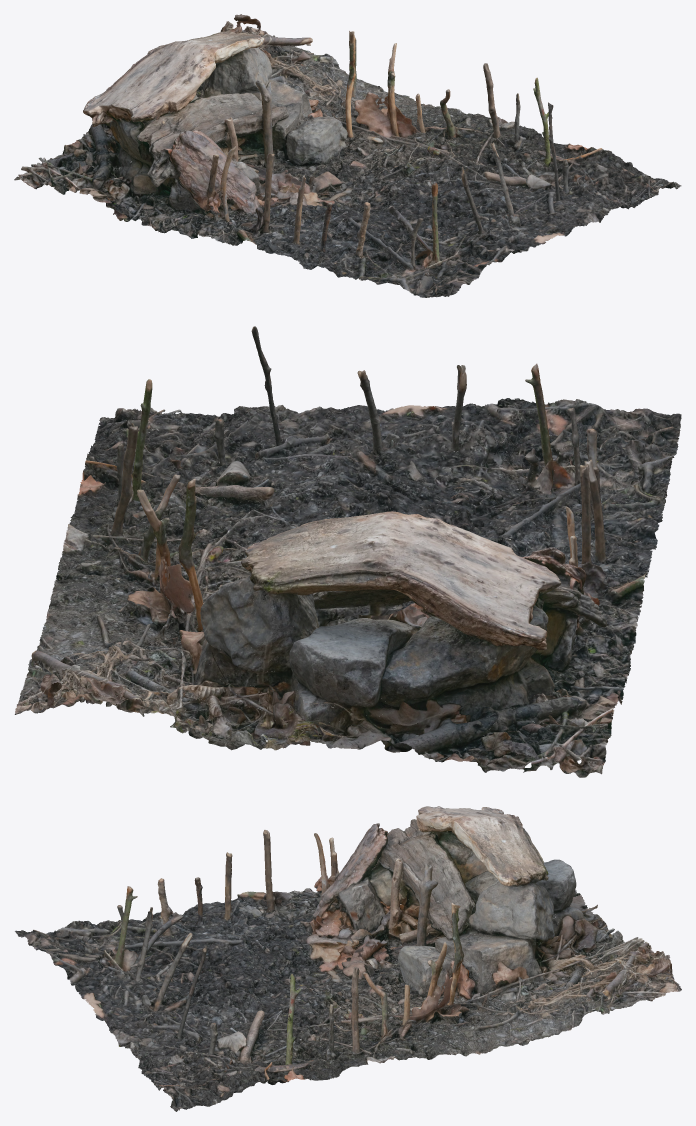
File: sf-mini-pasture-ab50cc.glb
3 renders of one model, top to bottom at view 1: azimuth 30°, elevation 25°; view 2: azimuth 150°, elevation 25°; view 3: azimuth 270°, elevation 25°, orthographic. The views are drawn at different scales.
Parts seen in each view (by area): view 1: Model_material0_0, Model_material1_0, Model_material2_0; view 2: Model_material0_0, Model_material1_0, Model_material2_0; view 3: Model_material2_0, Model_material0_0, Model_material1_0.
Part boxes in pixels (x1=…): Model_material0_0: x1=14, y1=18, x2=665, y2=297; Model_material1_0: x1=18, y1=14, x2=651, y2=285; Model_material2_0: x1=21, y1=21, x2=681, y2=293; Model_material0_0: x1=14, y1=326, x2=681, y2=777; Model_material1_0: x1=16, y1=365, x2=669, y2=772; Model_material2_0: x1=31, y1=366, x2=672, y2=772; Model_material2_0: x1=38, y1=806, x2=664, y2=1111; Model_material0_0: x1=15, y1=811, x2=681, y2=1097; Model_material1_0: x1=50, y1=810, x2=675, y2=1085.
Bounding box in the file's own units: 0.7497 × 0.1788 × 0.8316.
3 materials, 3 textured.
